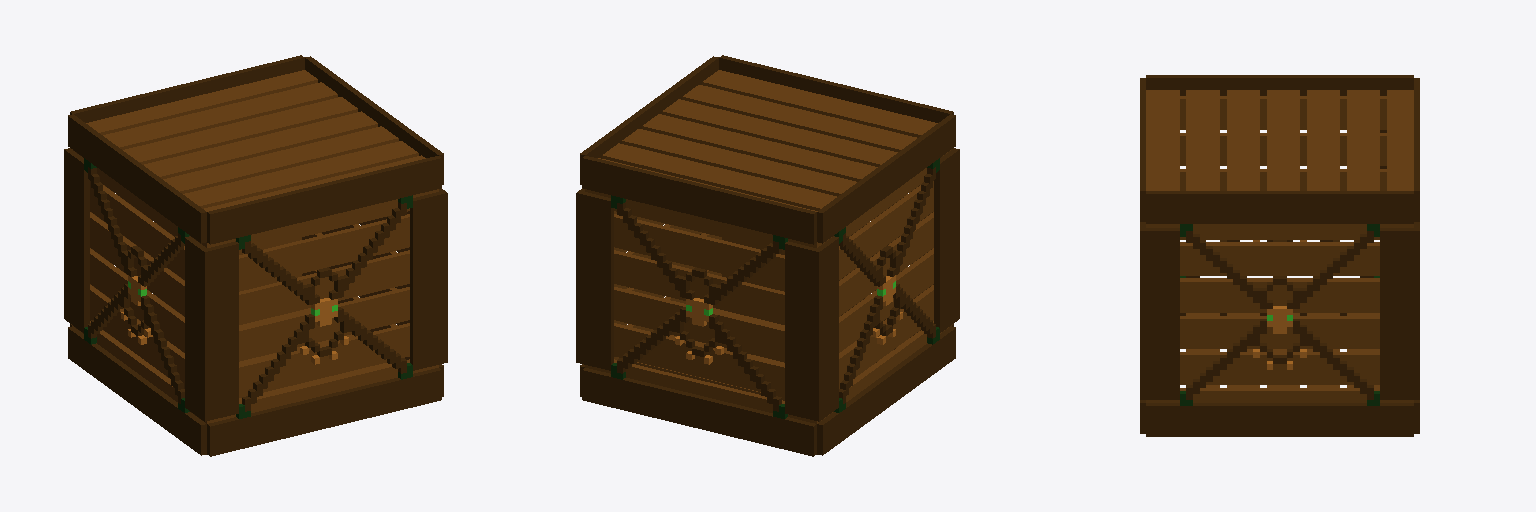
3 renders of one model, left to right at view 1: azimuth 30°, elevation 25°; view 2: azimuth 150°, elevation 25°; view 3: azimuth 270°, elevation 25°, orthographic.
Visible parts, largest first — view 1: forest_crate; view 2: forest_crate; view 3: forest_crate.
Part boxes in pixels (x1,y1,x2,y2): forest_crate: (64, 55, 447, 456); forest_crate: (576, 55, 959, 456); forest_crate: (1140, 75, 1419, 436).
Bounding box in the file's own units: 42 × 40 × 42.
1 materials, 1 textured.